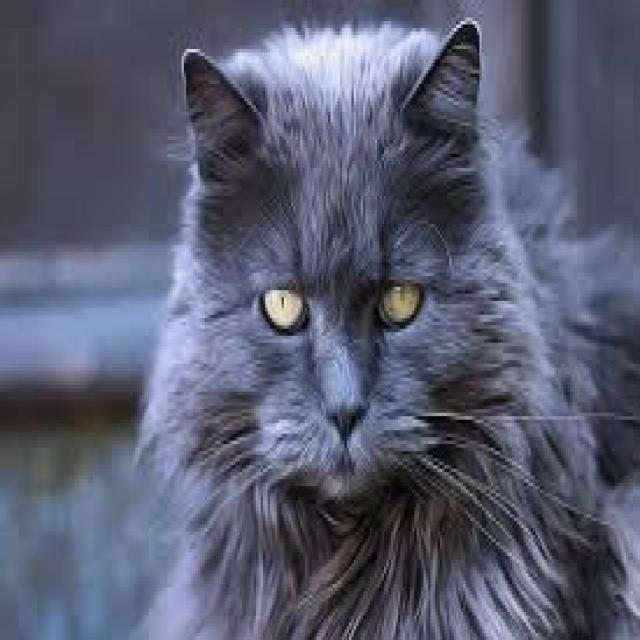Cat: (138, 9, 640, 640)
